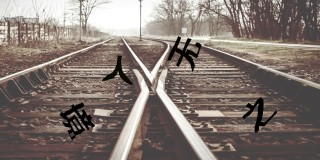之: (240, 96, 277, 132)
人: (100, 55, 136, 87)
境: (59, 101, 95, 140)
无: (167, 34, 201, 72)
